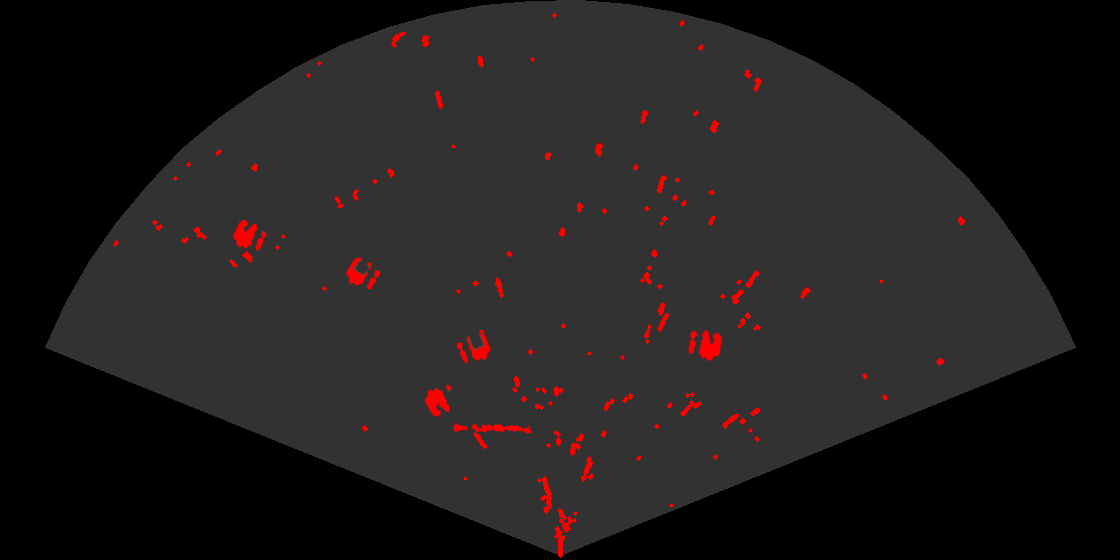ball: (344, 256, 382, 291), (687, 328, 724, 363), (455, 331, 492, 365), (231, 218, 268, 252), (423, 383, 453, 419)
chain: (452, 421, 533, 435)
